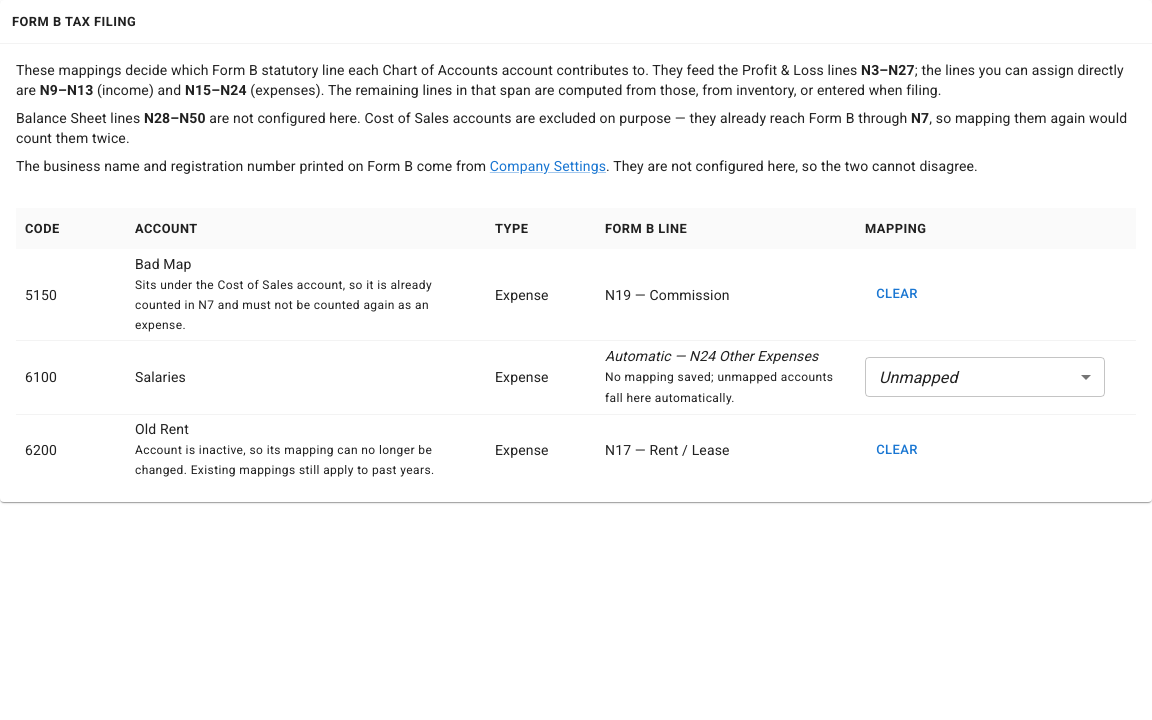
FormBMappingSection › lets a staged clear be undone without discarding the rest of the page
This screenshot has width=1152, height=720.
Click the button with test id "formb-map-clear-b1". click: x=897, y=295
box: [865,279,929,310]
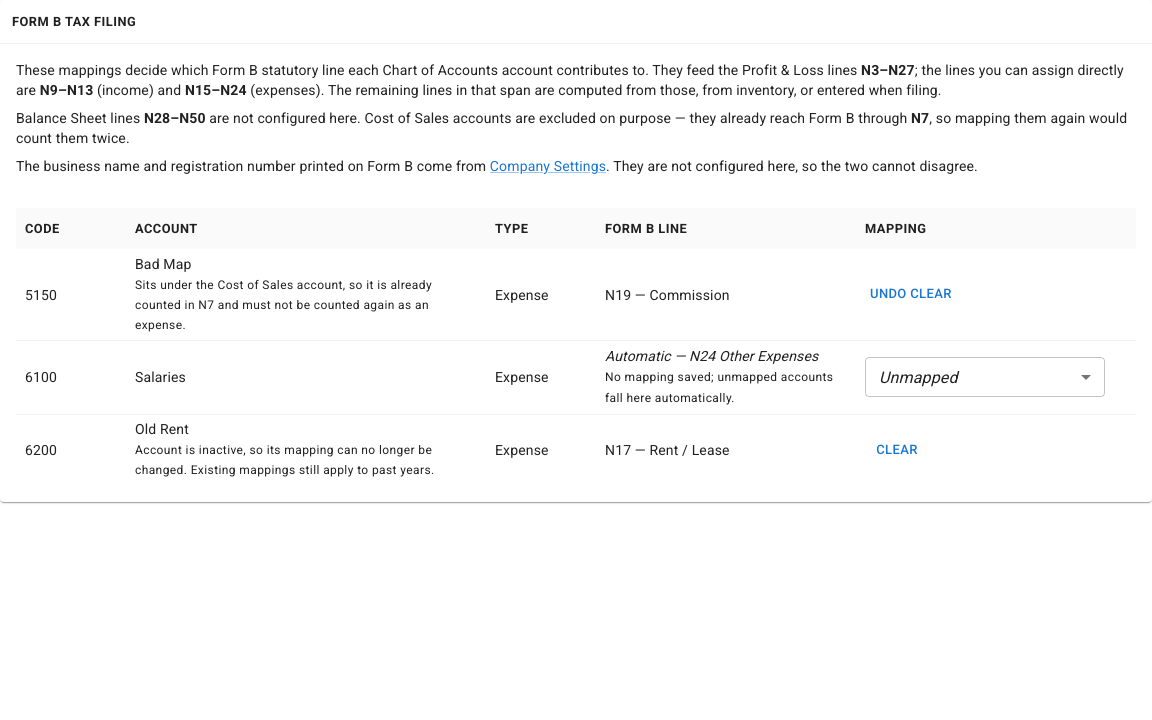
Now the button with test id "formb-map-clear-b1" reads "Undo clear"
Click the button with test id "formb-map-clear-b1". click: x=911, y=295
box: [865,279,957,310]
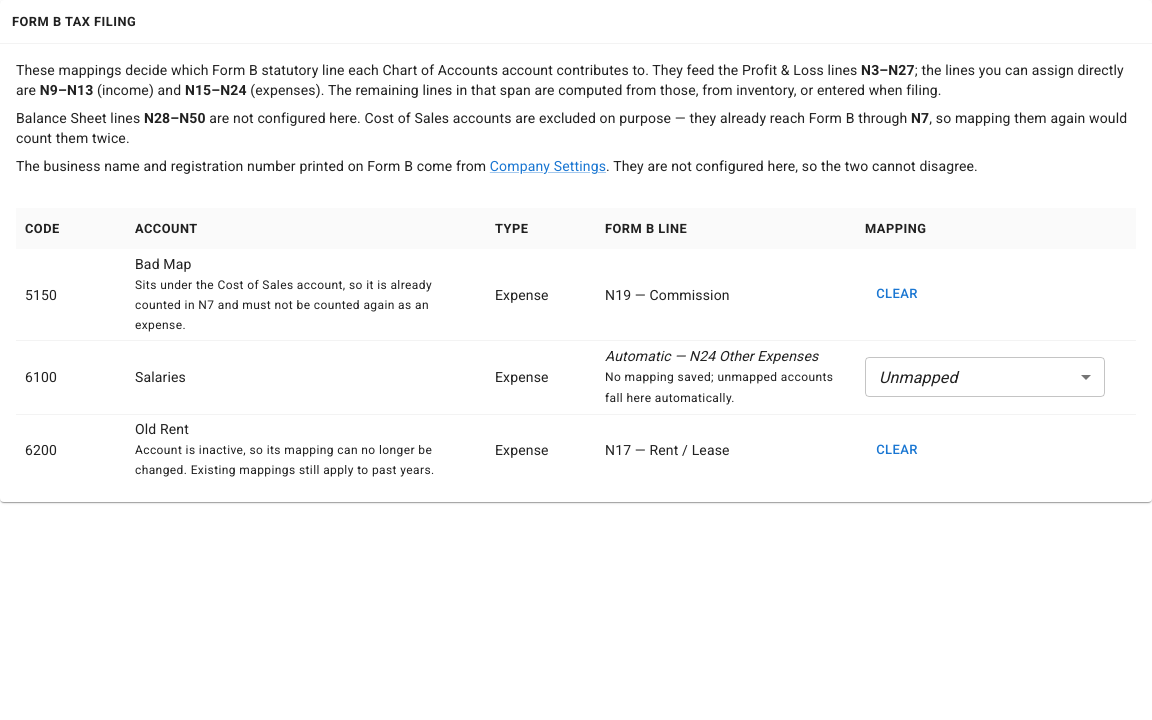
Now the button with test id "formb-map-clear-b1" reads "Clear", box [865,279,929,310]
